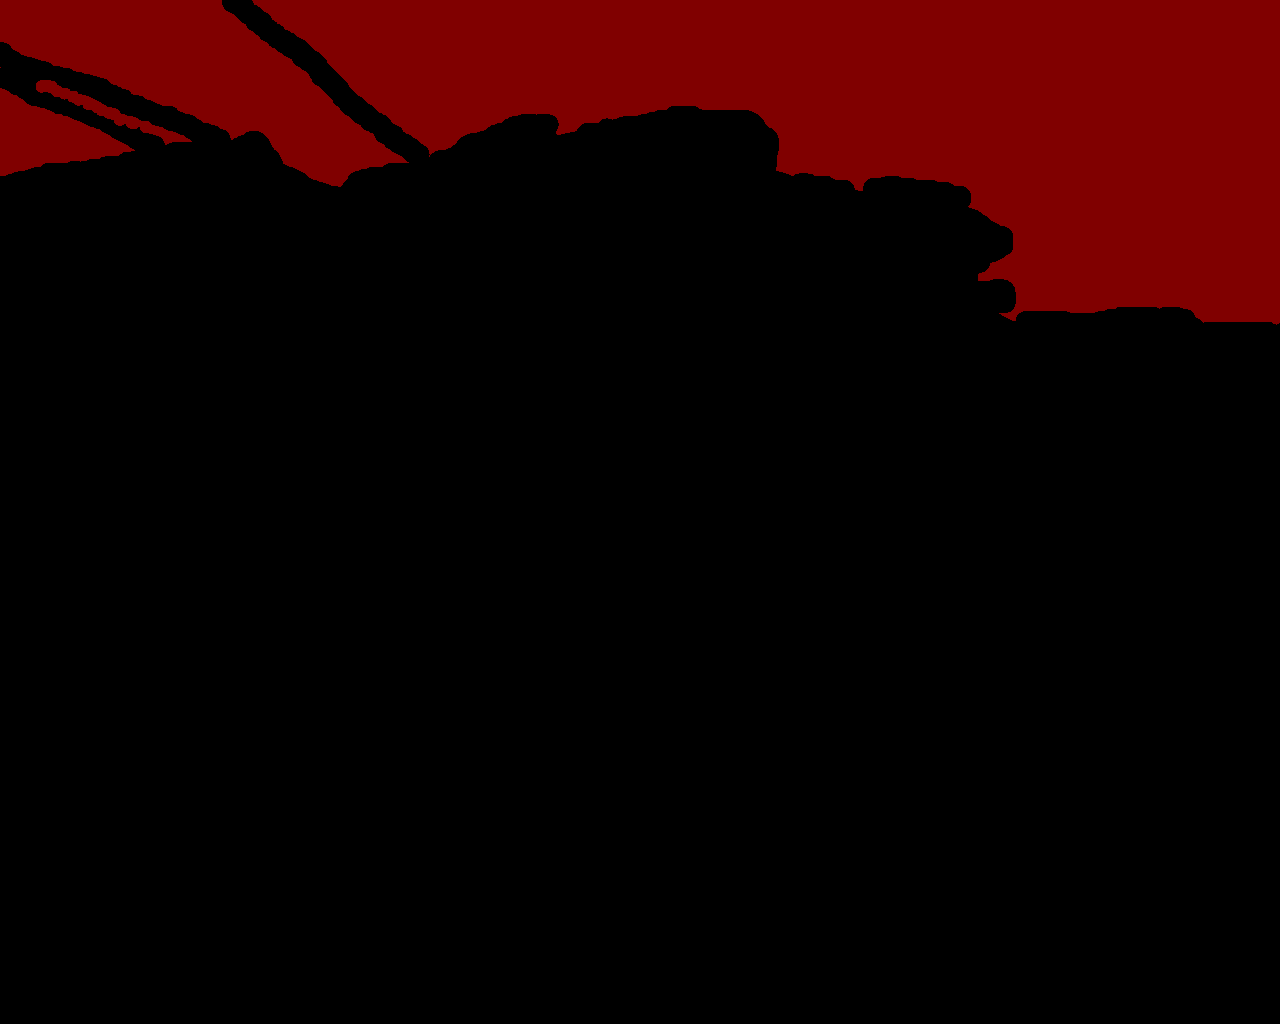Sky: (1, 1, 1279, 325)
